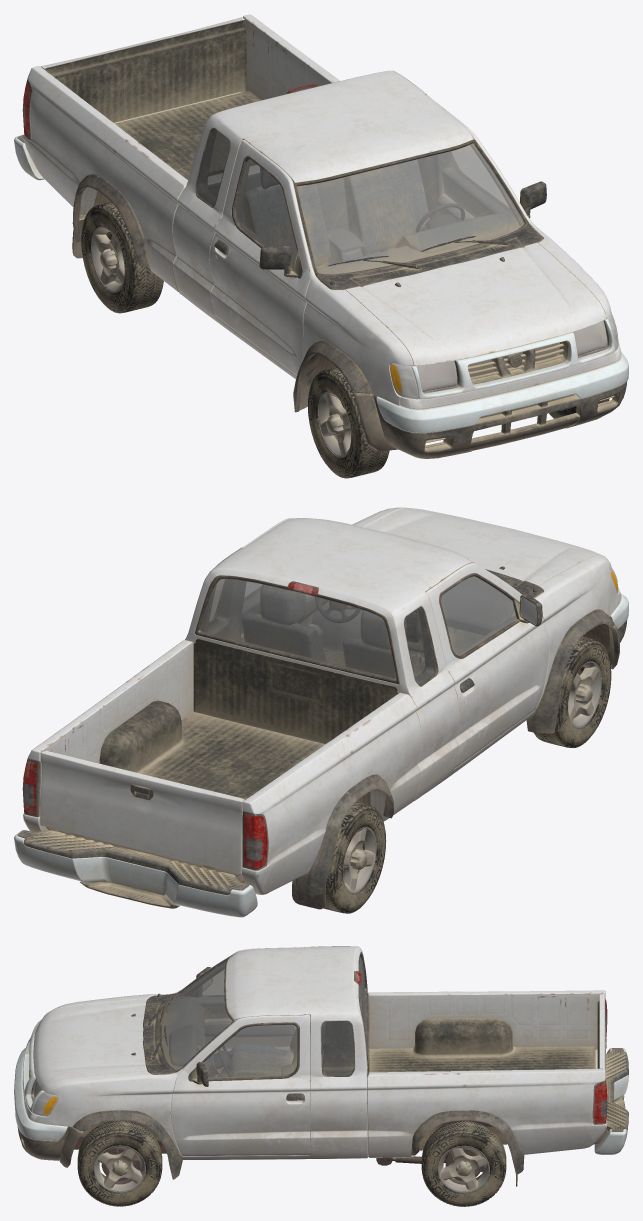
Rendered from nissan_4x4.glb.
3 views of the same model, one above another, from view 1: azimuth 30°, elevation 25°; view 2: azimuth 150°, elevation 25°; view 3: azimuth 270°, elevation 25° (orthographic). The views are drawn at different scales.
Visible parts, largest first — view 1: Body_Paint, Body_Glass, Body_Trim, tire_RR, tire_FR, DoorTrim, Rim_RR, Rim_FR, HeadLensMain, DoorPaint, DoorGlass, HeadLens; view 2: Body_Paint, Body_Glass, Body_Trim, tire_RR, tire_FR, Rim_FR, Rim_RR, TailLensMesh, DoorTrim; view 3: Body_Paint, DoorPaint, Body_Trim, Body_Glass, DoorGlass, tire_RL, tire_FL, Rim_RL, Rim_FL, TailLensMesh, HeadLens, SteeringWheel.
Part boxes in pixels (<box>): Body_Paint: <box>14,14,628,458</box>; Body_Glass: <box>196,83,524,274</box>; Body_Trim: <box>198,129,601,440</box>; tire_RR: <box>81,202,163,313</box>; tire_FR: <box>308,367,389,478</box>; DoorTrim: <box>437,144,523,226</box>; Rim_RR: <box>86,221,125,298</box>; Rim_FR: <box>312,386,352,464</box>; HeadLensMain: <box>416,320,607,391</box>; DoorPaint: <box>449,132,546,223</box>; DoorGlass: <box>448,145,512,213</box>; HeadLens: <box>389,313,618,399</box>; Body_Paint: <box>14,507,628,917</box>; Body_Glass: <box>199,576,516,684</box>; Body_Trim: <box>200,578,516,684</box>; tire_RR: <box>323,802,386,913</box>; tire_FR: <box>534,636,611,748</box>; Rim_FR: <box>567,656,606,733</box>; Rim_RR: <box>342,821,381,899</box>; TailLensMesh: <box>22,761,267,868</box>; DoorTrim: <box>241,590,327,647</box>; Body_Paint: <box>14,946,628,1186</box>; DoorPaint: <box>171,1014,310,1156</box>; Body_Trim: <box>74,959,493,1165</box>; Body_Glass: <box>162,956,366,1075</box>; DoorGlass: <box>204,1024,297,1078</box>; tire_RL: <box>421,1120,506,1206</box>; tire_FL: <box>77,1121,162,1206</box>; Rim_RL: <box>433,1142,494,1197</box>; Rim_FL: <box>89,1142,150,1197</box>; TailLensMesh: <box>594,999,607,1123</box>; HeadLens: <box>32,1092,57,1116</box>; SteeringWheel: <box>213,1045,234,1076</box>.
Size of the model in its own units: 2.03 by 1.67 by 5.01.
Materials: 7 (7 with a texture image).
